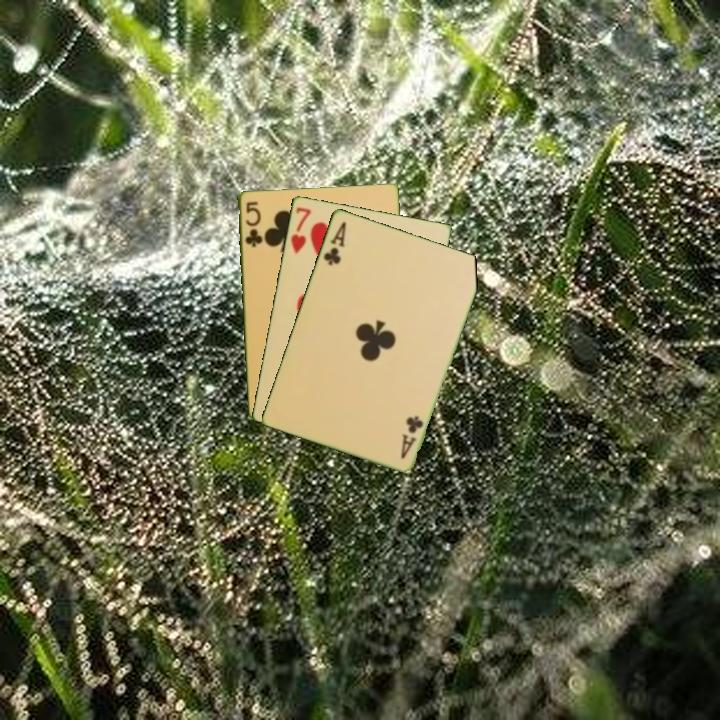5c: (241, 197, 265, 250)
7h: (287, 203, 313, 256)
Ac: (320, 217, 349, 268), (397, 412, 426, 461)
